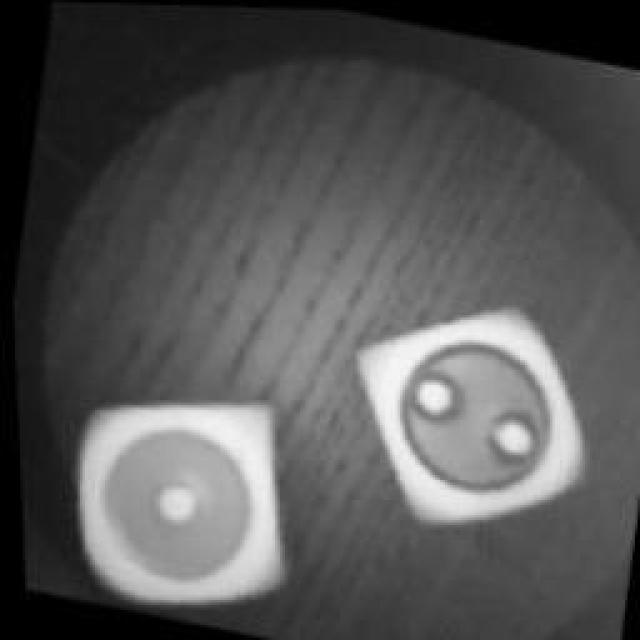dice_1: (38, 360, 300, 622)
dice_2: (338, 275, 608, 553)
